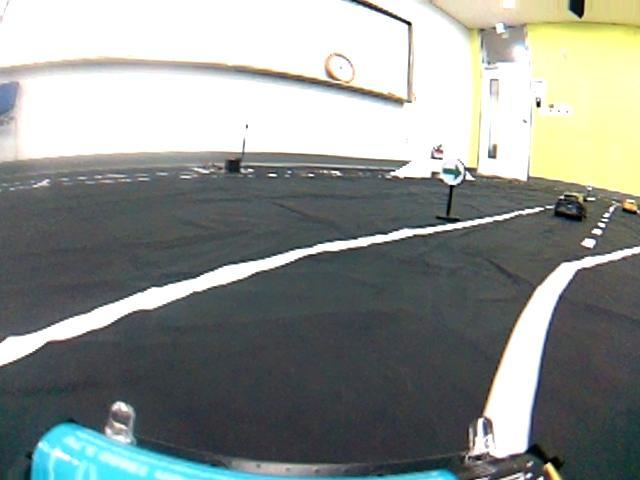car: (554, 187, 591, 222)
right: (4, 224, 636, 476)
sign_right: (439, 157, 466, 185)
